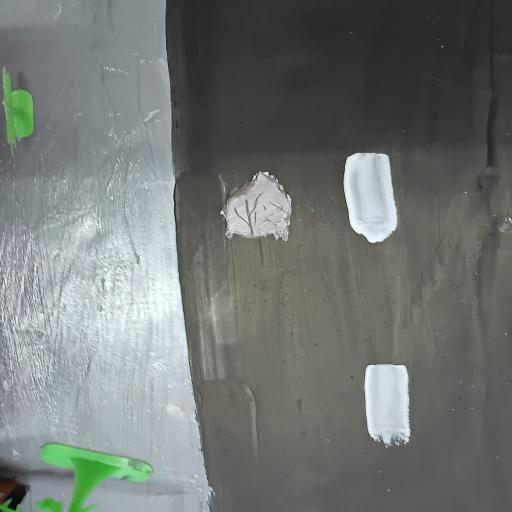porthole: (206, 162, 315, 249)
